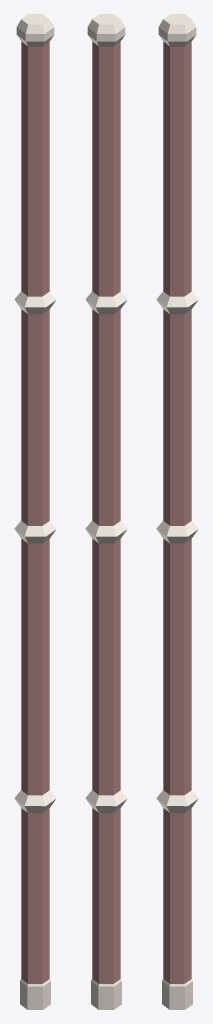
The model's file is Building_Temple_Indian_Top_Tall_02.fbx.
3 renders of one model, left to right at view 1: azimuth 90°, elevation 25°; view 2: azimuth 210°, elevation 25°; view 3: azimuth 270°, elevation 25°, orthographic.
Visible parts, largest first — view 1: Building_Temple_Indian_Top_Tall_02; view 2: Building_Temple_Indian_Top_Tall_02; view 3: Building_Temple_Indian_Top_Tall_02.
Boxes of the visible parts, left/top/right/bottom form: Building_Temple_Indian_Top_Tall_02: left=14, top=14, right=56, bottom=1009; Building_Temple_Indian_Top_Tall_02: left=85, top=14, right=127, bottom=1009; Building_Temple_Indian_Top_Tall_02: left=156, top=14, right=198, bottom=1009.
Size of the model in its own units: 42.91 by 1258 by 49.05.
